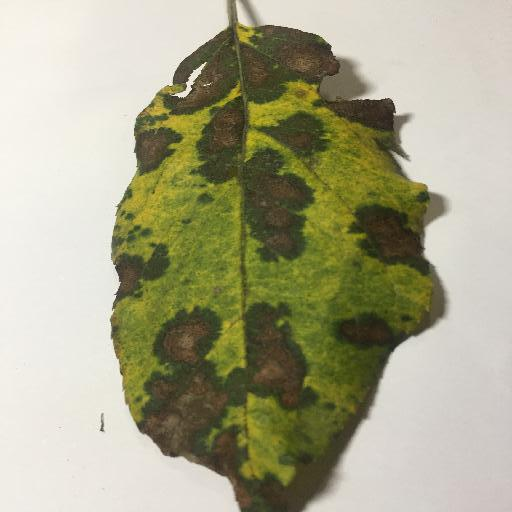Brown_Spot: (148, 317, 228, 462), (177, 29, 335, 92), (356, 209, 429, 286), (246, 164, 306, 253), (251, 307, 303, 401), (200, 104, 249, 185), (103, 241, 166, 299), (320, 103, 413, 135), (341, 316, 401, 346), (137, 130, 176, 174), (238, 479, 289, 512)
